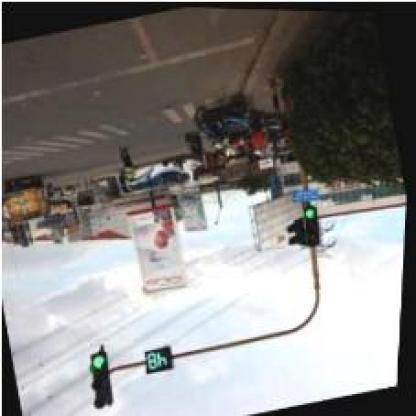green: (86, 348, 119, 407), (301, 198, 326, 245)
